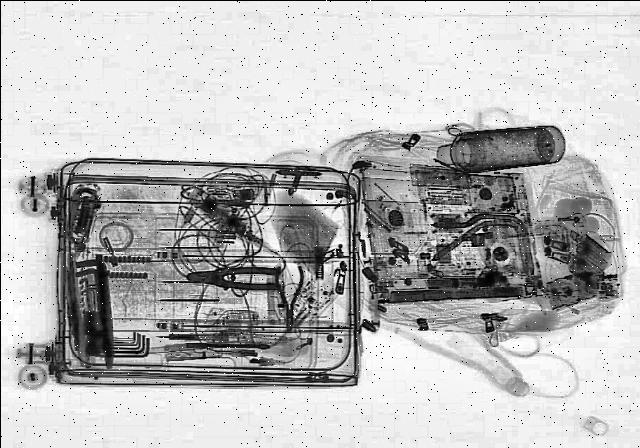Pliers: (186, 264, 282, 290), (276, 265, 302, 331)
